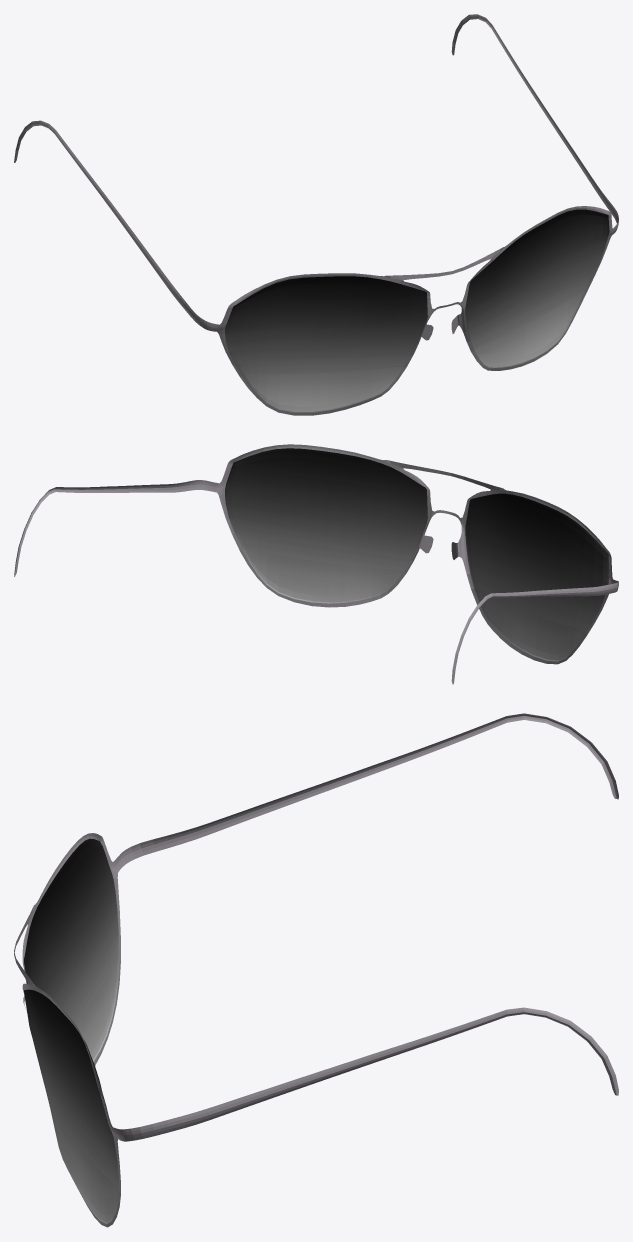
File: Megane01.fbx
3 renders of one model, top to bottom at view 1: azimuth 30°, elevation 25°; view 2: azimuth 150°, elevation 25°; view 3: azimuth 270°, elevation 25°, orthographic. The views are drawn at different scales.
Parts seen in each view (by area): view 1: Megane01; view 2: Megane01; view 3: Megane01.
Boxes of the visible parts, x1,y1,x2,y2 form: Megane01: [14, 14, 618, 415]; Megane01: [14, 444, 618, 684]; Megane01: [14, 713, 618, 1227].
Size of the model in its own units: 14.76 by 6.54 by 12.72.
